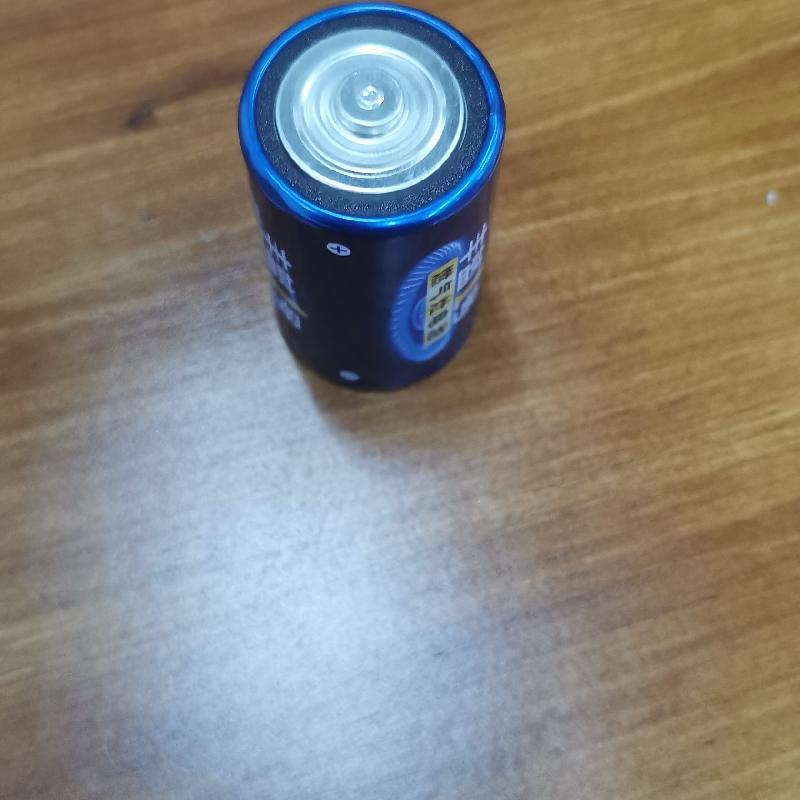battery: (232, 1, 505, 391)
